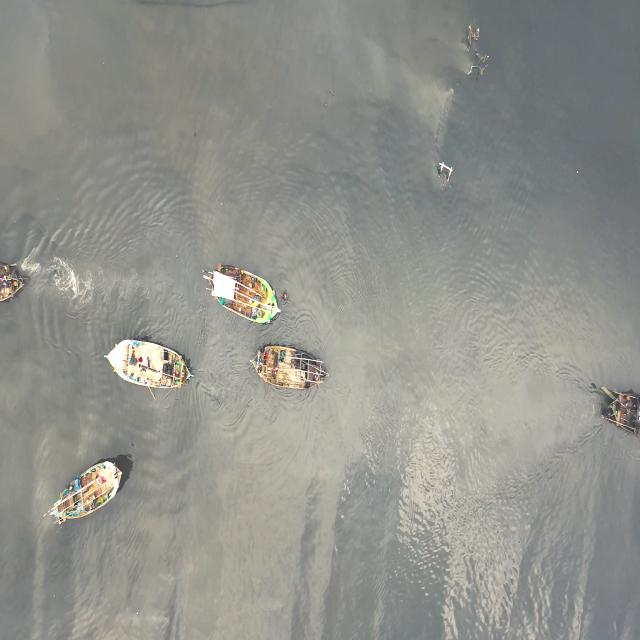ship: (43, 457, 126, 531), (100, 336, 196, 391), (205, 260, 280, 322), (251, 343, 330, 395), (598, 382, 639, 434), (0, 256, 28, 304)
